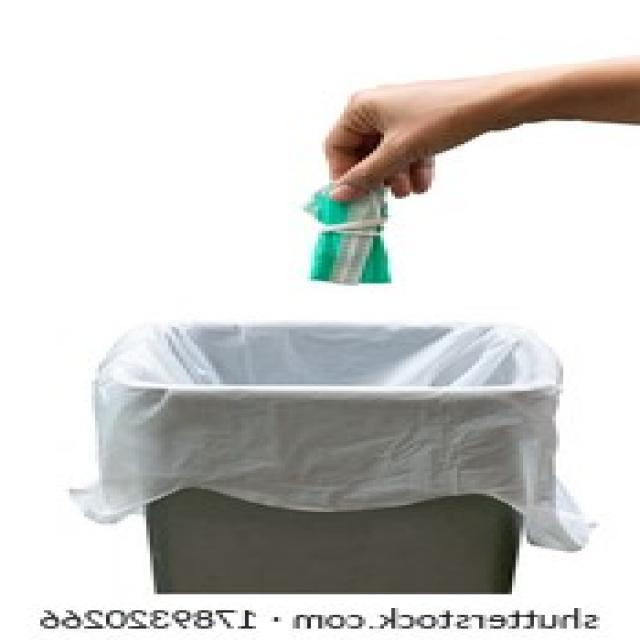face mask: (281, 180, 428, 311)
